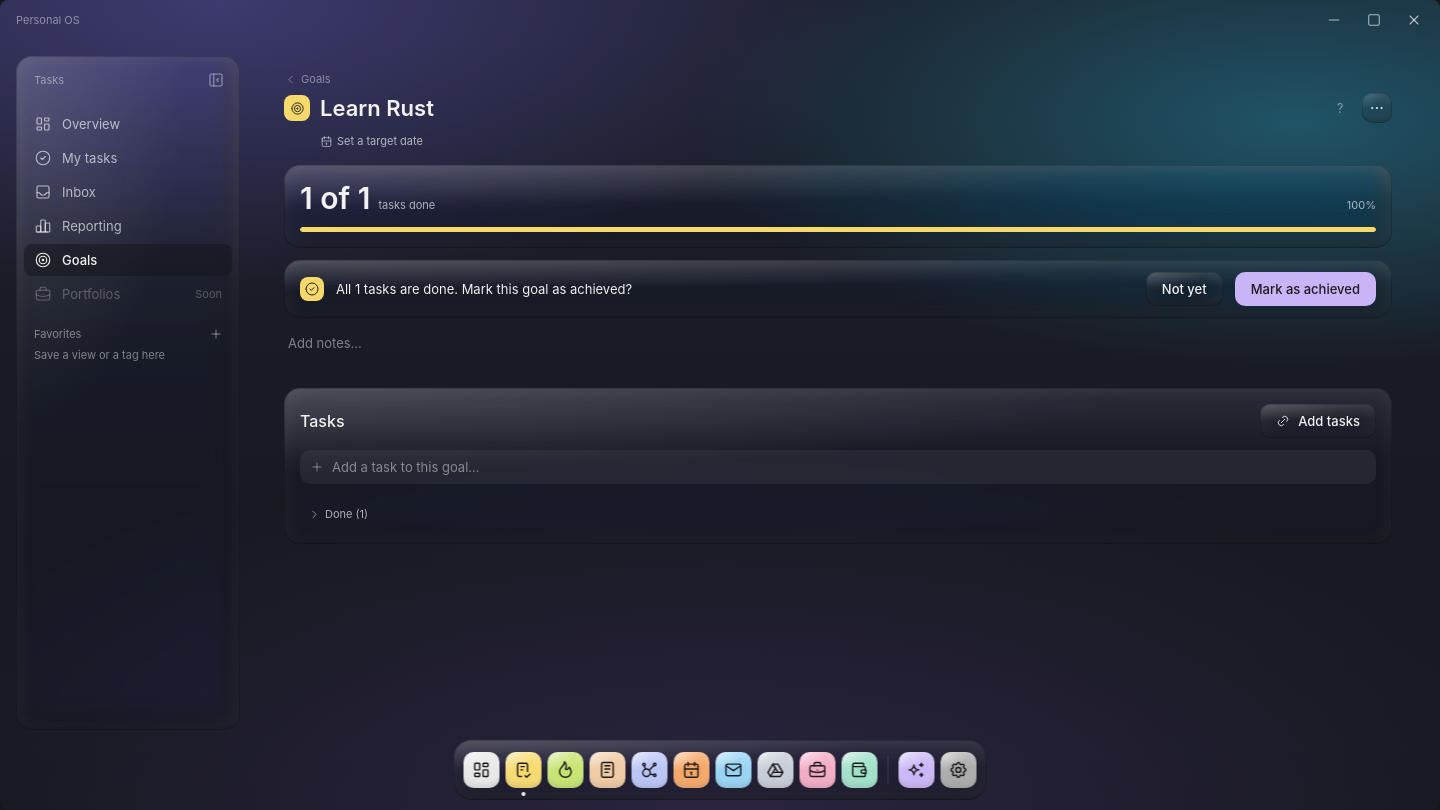
Test: the tasks card › names the Done group list
The width and height of the screenshot is (1440, 810).
Expected: the field named "Goal title" is shown, [316,94,1318,122]
Step 1. Click the button "Done (1)" → (338, 514), box [300,500,376,528]
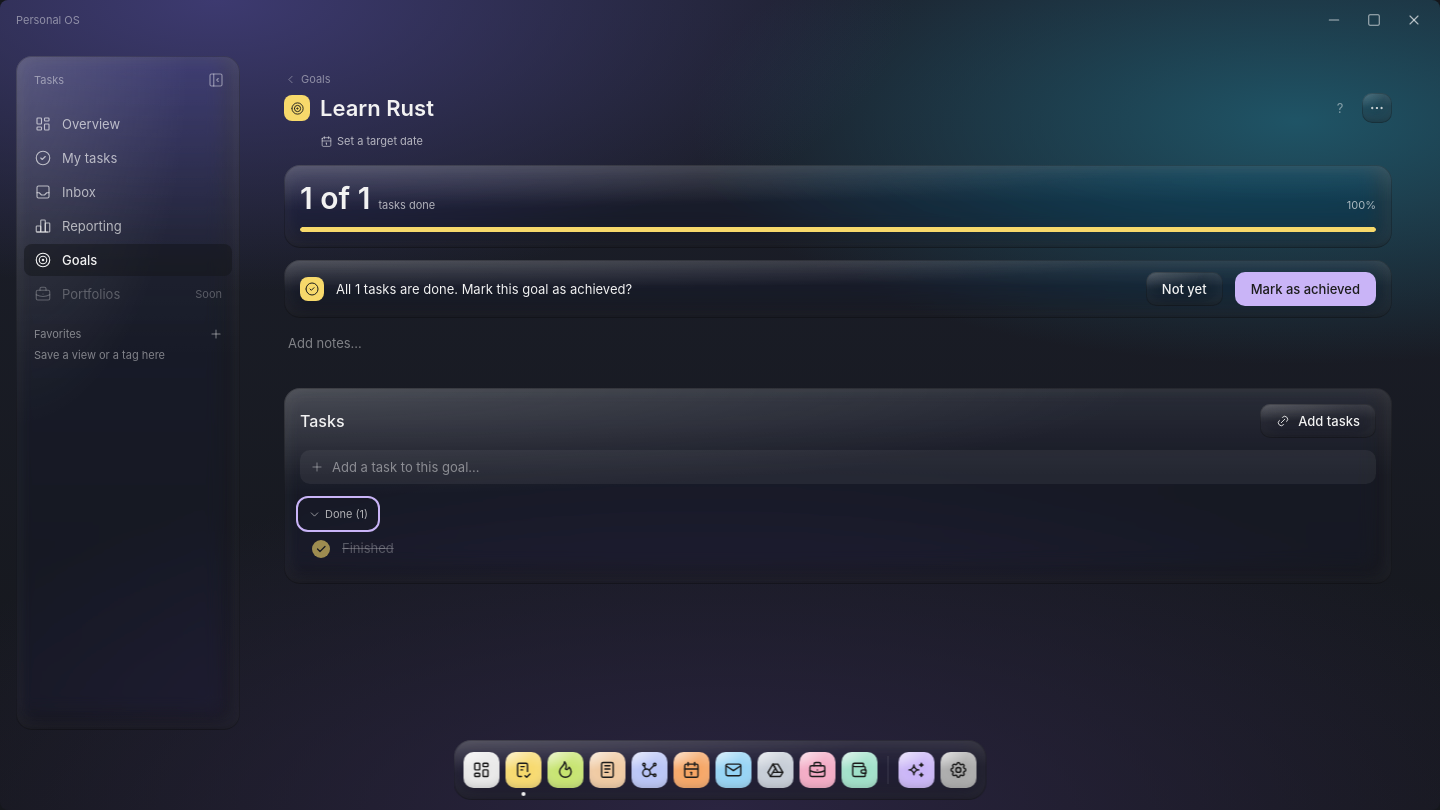
Expected: the list named "Done" is shown, [312,540,394,558]
